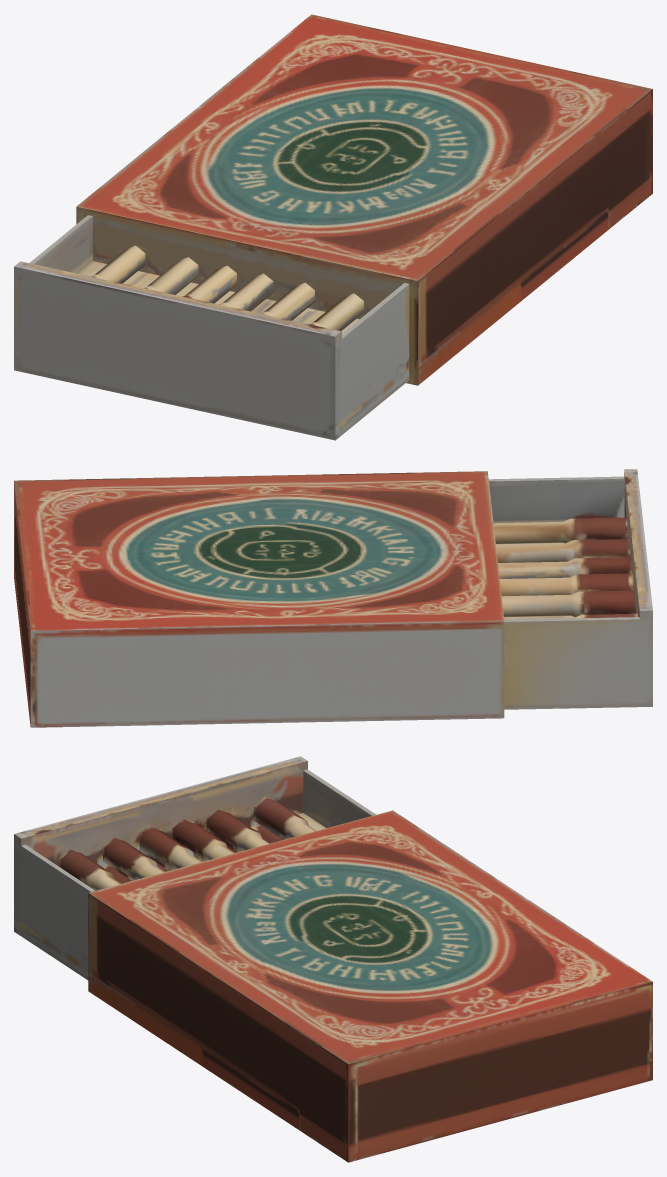
Rendered from Matchbox.fbx.
The picture shows the model from 3 angles, top to bottom: view 1: azimuth 30°, elevation 25°; view 2: azimuth 150°, elevation 25°; view 3: azimuth 270°, elevation 25°; orthographic projection. The views are drawn at different scales.
Parts seen in each view (by area): view 1: Matchbox_Low; view 2: Matchbox_Low; view 3: Matchbox_Low.
Boxes of the visible parts, left/top/right/bottom form: Matchbox_Low: left=14, top=14, right=652, bottom=440; Matchbox_Low: left=14, top=469, right=652, bottom=727; Matchbox_Low: left=14, top=756, right=652, bottom=1162.
Size of the model in its own units: 0.2714 by 0.042 by 0.2402.
